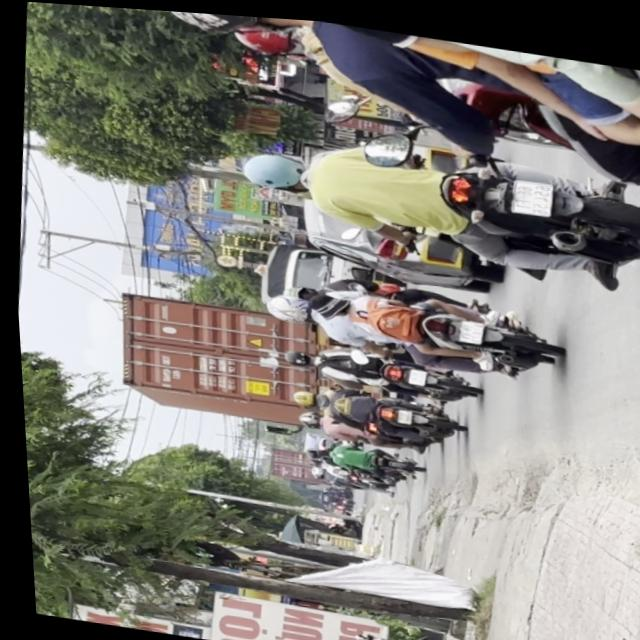helmet: (235, 141, 308, 191), (259, 286, 309, 319)
licenseplate: (226, 109, 640, 289), (250, 259, 561, 378)
motorcyclist: (301, 282, 350, 318)
nohelmet: (506, 171, 550, 208), (454, 312, 480, 337)
